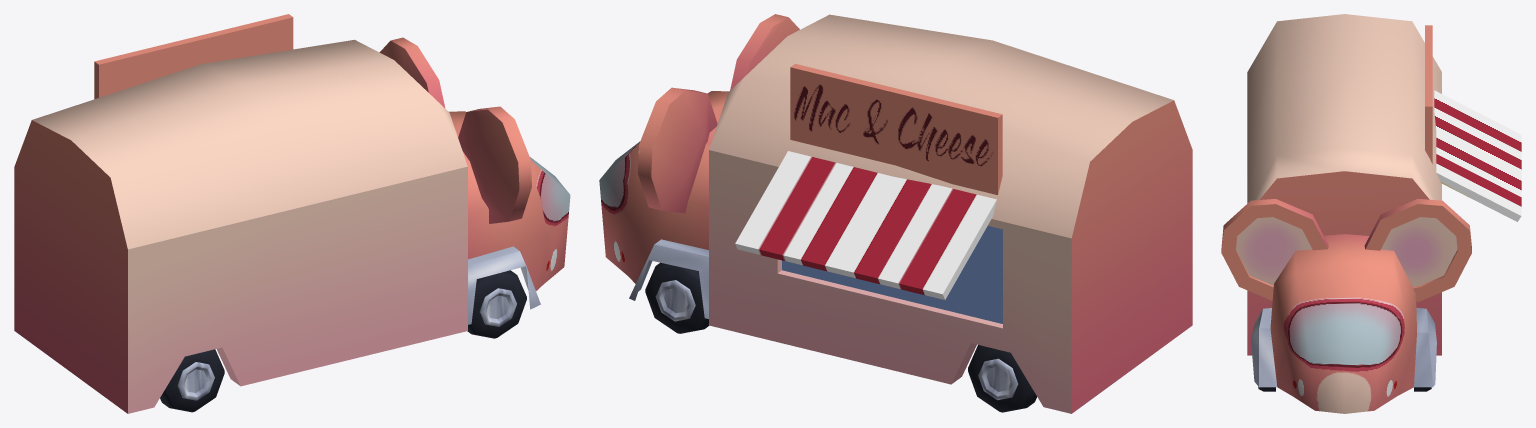
Rendered from Voiture_Souris_fbx.fbx.
The picture shows the model from 3 angles, left to right: view 1: azimuth 30°, elevation 25°; view 2: azimuth 150°, elevation 25°; view 3: azimuth 270°, elevation 25°; orthographic projection. The views are drawn at different scales.
Visible parts, largest first — view 1: Corps_Mouse_Car, Roue_22, Roue_23; view 2: Corps_Mouse_Car, Roue_20, Roue_21; view 3: Corps_Mouse_Car.
Boxes of the visible parts, x1,y1,x2,y2 form: Corps_Mouse_Car: [14, 14, 570, 413]; Roue_22: [467, 270, 526, 338]; Roue_23: [160, 349, 224, 412]; Corps_Mouse_Car: [599, 14, 1192, 413]; Roue_20: [645, 262, 708, 333]; Roue_21: [968, 345, 1036, 412]; Corps_Mouse_Car: [1221, 14, 1521, 413].
Bounding box in the file's own units: 370 × 203 × 231.
